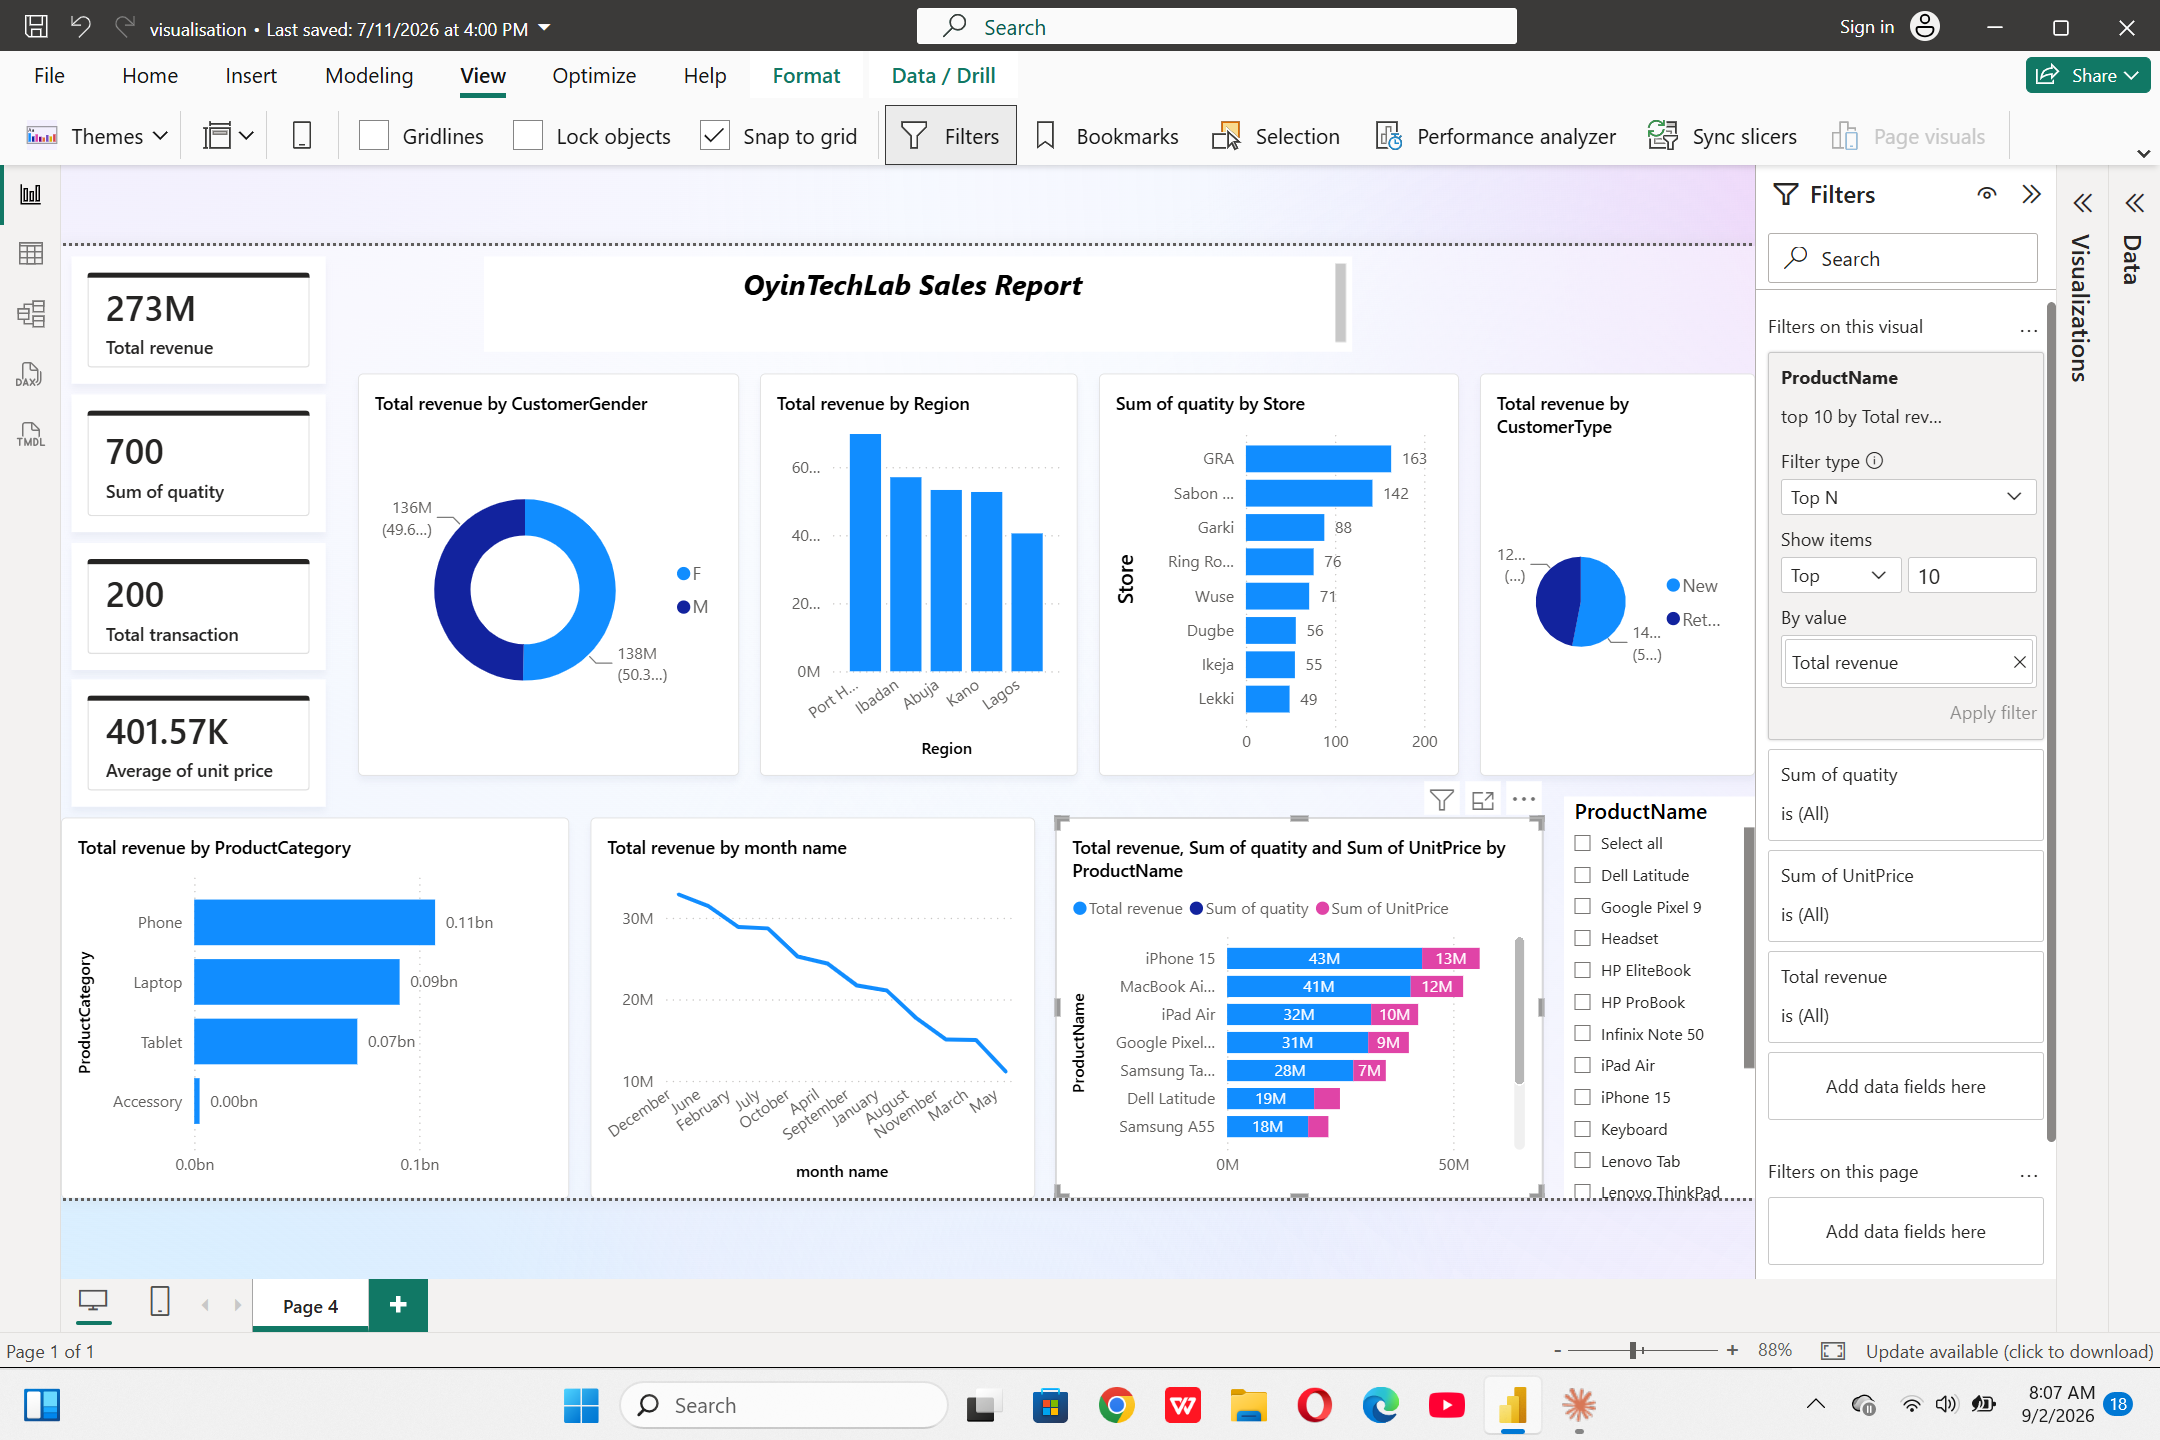

The dashboard page shown, as its layout file describes it:
{"tool":"powerbi","page":{"name":"Page 4","canvas":[1280,720],"ordinal":0},"visuals":[{"type":"cardVisual","fields":{"Data":["Retail_Sales_200.Total revenue"]},"box":[8,8,192,96],"z":0},{"type":"cardVisual","fields":{"Data":["Sum(Retail_Sales_200.quatity)"]},"box":[8,112,192,104],"z":1000},{"type":"cardVisual","fields":{"Data":["Retail_Sales_200.Total transaction"]},"box":[8,224,192,96],"z":2000},{"type":"cardVisual","fields":{"Data":["Retail_Sales_200.Average of unit price"]},"box":[8,328,192,96],"z":3000},{"type":"clusteredColumnChart","fields":{"Category":["Retail_Sales_200.Region"],"Y":["Retail_Sales_200.Total revenue"]},"box":[528,96,240,304],"z":4000},{"type":"clusteredBarChart","fields":{"Category":["Retail_Sales_200.ProductCategory"],"Y":["Retail_Sales_200.Total revenue"]},"box":[0,432,384,288],"z":5000},{"type":"donutChart","fields":{"Category":["Retail_Sales_200.CustomerGender"],"Y":["Retail_Sales_200.Total revenue"]},"box":[224,96,288,304],"z":6000},{"type":"lineChart","fields":{"Category":["Retail_Sales_200.month name"],"Y":["Retail_Sales_200.Total revenue"]},"box":[400,432,336,288],"z":7000},{"type":"clusteredBarChart","fields":{"Category":["Retail_Sales_200.Store"],"Y":["Sum(Retail_Sales_200.quatity)"]},"box":[784,96,272,304],"z":8000},{"type":"slicer","fields":{"Values":["Retail_Sales_200.ProductName"]},"box":[1136,416,144,304],"z":9000},{"type":"textbox","box":[320,8,656,72],"z":10000},{"type":"pieChart","fields":{"Category":["Retail_Sales_200.CustomerType"],"Y":["Retail_Sales_200.Total revenue"]},"box":[1072,96,208,304],"z":10001},{"type":"barChart","title":"Top 10 Product by Revenue","fields":{"Category":["Retail_Sales_200.ProductName"],"Y":["Retail_Sales_200.Total revenue","Sum(Retail_Sales_200.quatity)","Sum(Retail_Sales_200.UnitPrice)"]},"box":[752,432,368,288],"z":10002}]}

Visuals, with their boxes on the page's 1280x720 design canvas (x1, y1, x2, y2). These are canvas units, not pixel positions in the 2160x1440 screenshot, which may show the page scaled, cropped or inside an application window:
cardVisual - Retail_Sales_200.Total revenue: select_region(8, 8, 200, 104)
cardVisual - Sum(Retail_Sales_200.quatity): select_region(8, 112, 200, 216)
cardVisual - Retail_Sales_200.Total transaction: select_region(8, 224, 200, 320)
cardVisual - Retail_Sales_200.Average of unit price: select_region(8, 328, 200, 424)
clusteredColumnChart - Retail_Sales_200.Region x Retail_Sales_200.Total revenue: select_region(528, 96, 768, 400)
clusteredBarChart - Retail_Sales_200.ProductCategory x Retail_Sales_200.Total revenue: select_region(0, 432, 384, 720)
donutChart - Retail_Sales_200.CustomerGender x Retail_Sales_200.Total revenue: select_region(224, 96, 512, 400)
lineChart - Retail_Sales_200.month name x Retail_Sales_200.Total revenue: select_region(400, 432, 736, 720)
clusteredBarChart - Retail_Sales_200.Store x Sum(Retail_Sales_200.quatity): select_region(784, 96, 1056, 400)
slicer - Retail_Sales_200.ProductName: select_region(1136, 416, 1280, 720)
textbox: select_region(320, 8, 976, 80)
pieChart - Retail_Sales_200.CustomerType x Retail_Sales_200.Total revenue: select_region(1072, 96, 1280, 400)
"Top 10 Product by Revenue" barChart: select_region(752, 432, 1120, 720)
